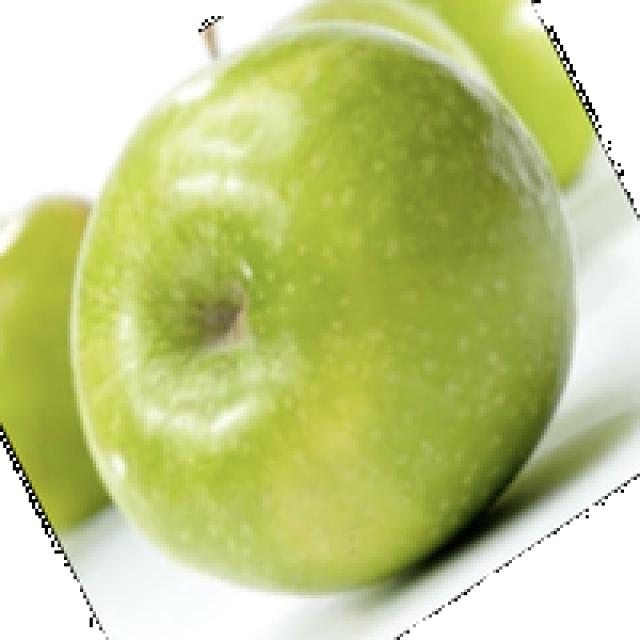apple: (0, 0, 637, 637)
